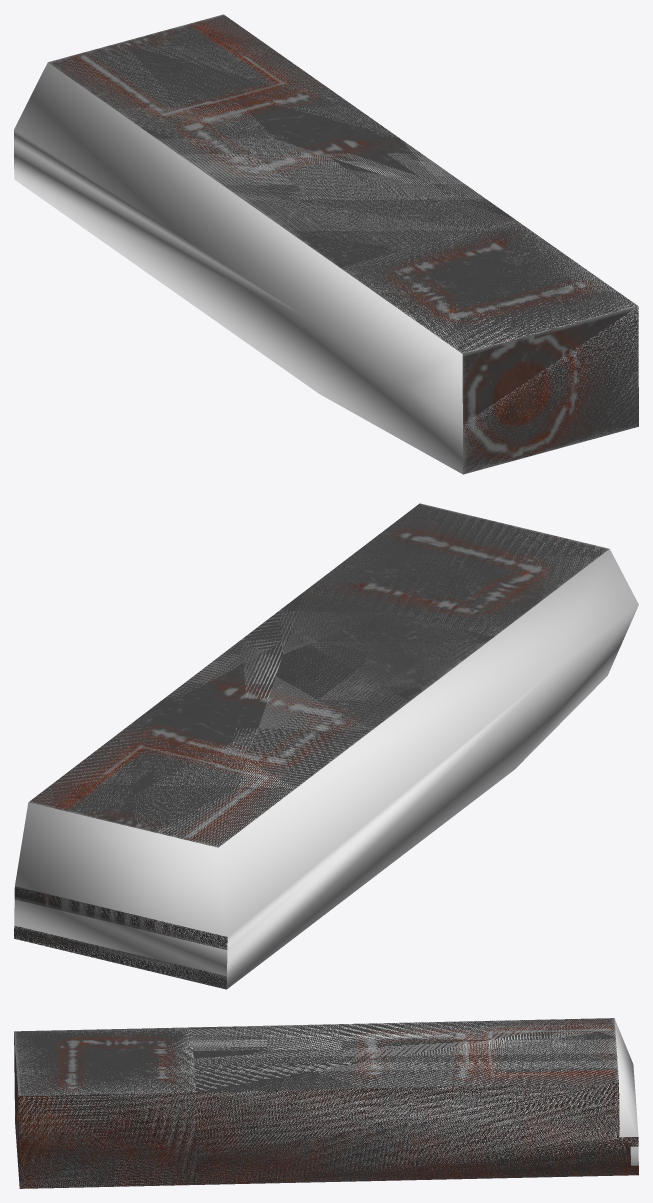
3 views of the same model, one above another, from view 1: azimuth 30°, elevation 25°; view 2: azimuth 150°, elevation 25°; view 3: azimuth 270°, elevation 25° (orthographic). The views are drawn at different scales.
Visible parts, largest first — view 1: weapon_machinegun_l_01_receiver, weapon_machinegun_l_01_receiver_col; view 2: weapon_machinegun_l_01_receiver_col, weapon_machinegun_l_01_receiver; view 3: weapon_machinegun_l_01_receiver, weapon_machinegun_l_01_receiver_col.
Boxes of the visible parts, x1,y1,x2,y2 form: weapon_machinegun_l_01_receiver: (48, 14, 638, 474); weapon_machinegun_l_01_receiver_col: (14, 15, 638, 474); weapon_machinegun_l_01_receiver_col: (14, 504, 638, 989); weapon_machinegun_l_01_receiver: (14, 503, 608, 989); weapon_machinegun_l_01_receiver: (14, 1018, 638, 1188); weapon_machinegun_l_01_receiver_col: (14, 1018, 638, 1188).
Bounding box in the file's own units: 0.1334 × 0.073 × 0.4146.
1 material, 1 textured.
